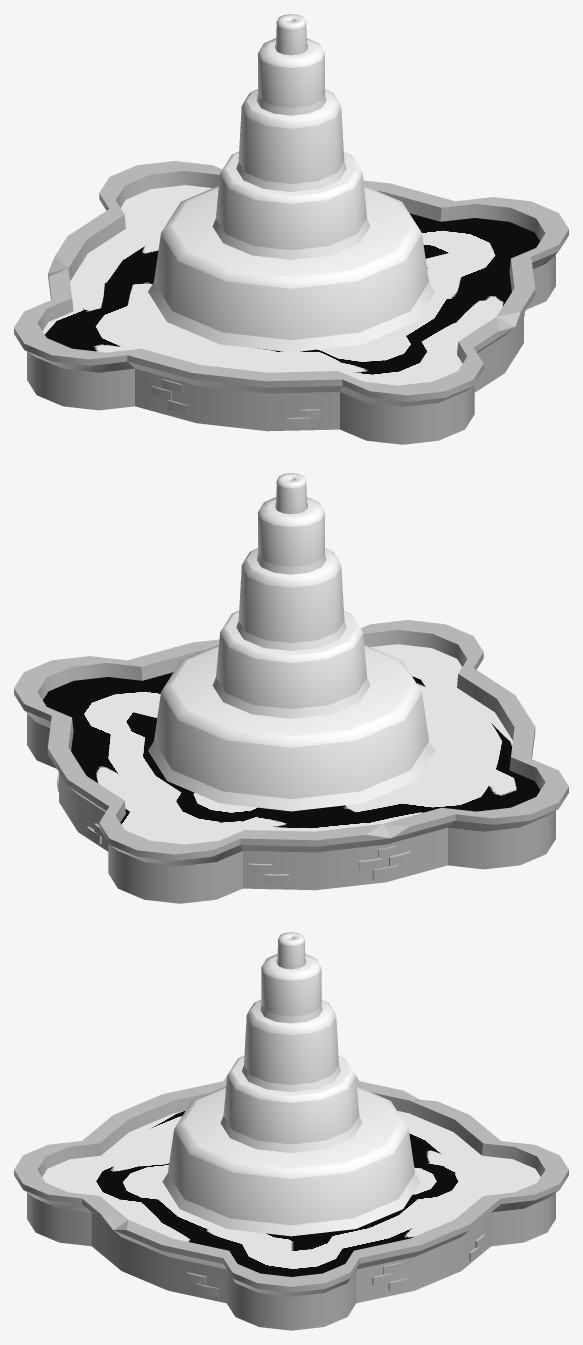
The model's file is CG_Prop_Fountain03.fbx.
3 views of the same model, one above another, from view 1: azimuth 30°, elevation 25°; view 2: azimuth 150°, elevation 25°; view 3: azimuth 270°, elevation 25° (orthographic). The views are drawn at different scales.
Visible parts, largest first — view 1: CG_Prop_Fountain001, CG_Prop_FountainWater003, CG_Prop_FountainWater004, CG_Prop_FountainWater005, CG_Prop_FountainWater006; view 2: CG_Prop_Fountain001, CG_Prop_FountainWater003, CG_Prop_FountainWater004, CG_Prop_FountainWater005, CG_Prop_FountainWater006; view 3: CG_Prop_Fountain001, CG_Prop_FountainWater003, CG_Prop_FountainWater004, CG_Prop_FountainWater005, CG_Prop_FountainWater006.
Part boxes in pixels (x1,y1,x2,y2): CG_Prop_Fountain001: (14,21,568,444); CG_Prop_FountainWater003: (154,15,428,340); CG_Prop_FountainWater004: (42,185,539,385); CG_Prop_FountainWater005: (160,14,421,288); CG_Prop_FountainWater006: (148,44,434,352); CG_Prop_Fountain001: (14,480,568,903); CG_Prop_FountainWater003: (154,474,428,799); CG_Prop_FountainWater004: (43,644,540,844); CG_Prop_FountainWater005: (161,473,422,747); CG_Prop_FountainWater006: (148,503,434,811); CG_Prop_Fountain001: (14,938,568,1330); CG_Prop_FountainWater003: (168,933,414,1225); CG_Prop_FountainWater004: (42,1111,540,1276); CG_Prop_FountainWater005: (174,932,408,1178); CG_Prop_FountainWater006: (162,959,420,1236).
Size of the model in its own units: 487 by 487 by 273.
